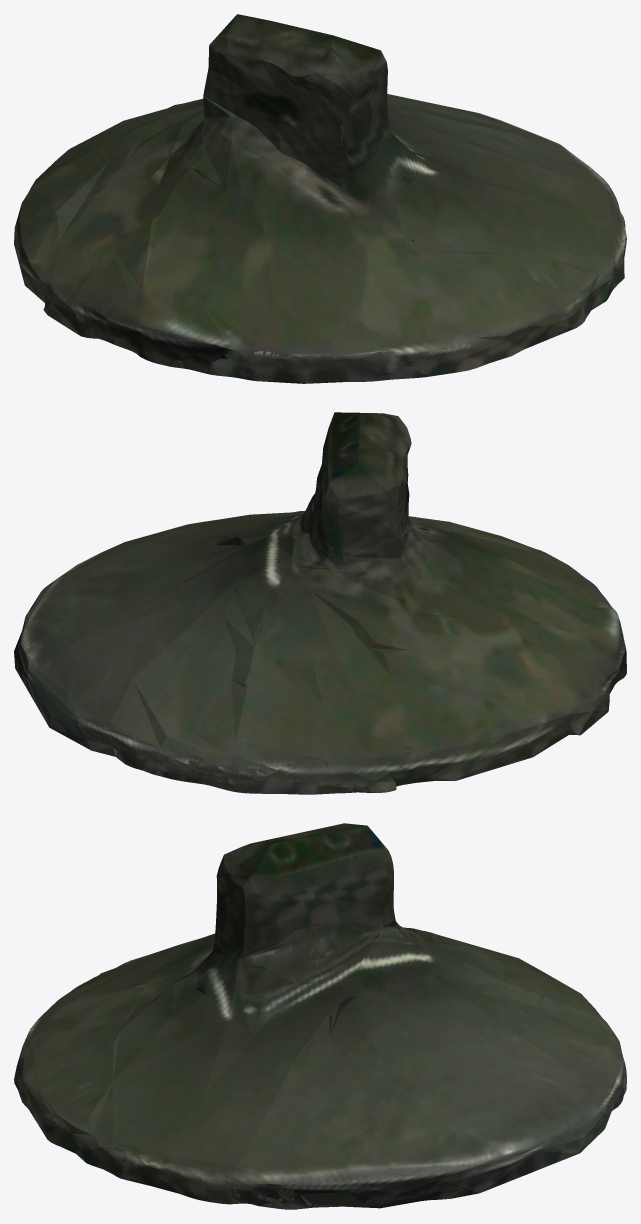
File: MonitorStand.obj
The picture shows the model from 3 angles, top to bottom: view 1: azimuth 30°, elevation 25°; view 2: azimuth 150°, elevation 25°; view 3: azimuth 270°, elevation 25°; orthographic projection. The views are drawn at different scales.
Size of the model in its own units: 64.74 by 27.73 by 65.56.
Materials: 1 (1 with a texture image).
